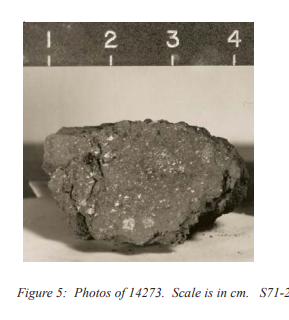Breccia: (46, 115, 250, 246), (72, 122, 163, 233)
